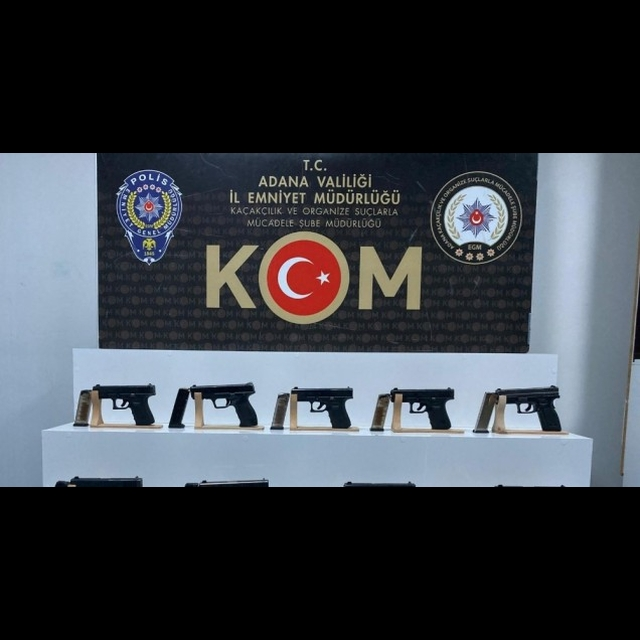SILAH: (496, 382, 565, 433), (189, 379, 260, 428), (390, 384, 458, 430), (291, 382, 355, 430), (92, 383, 160, 427)
